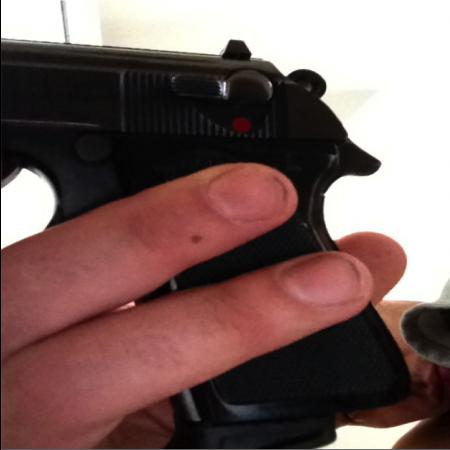Pistol: (6, 52, 396, 434)
